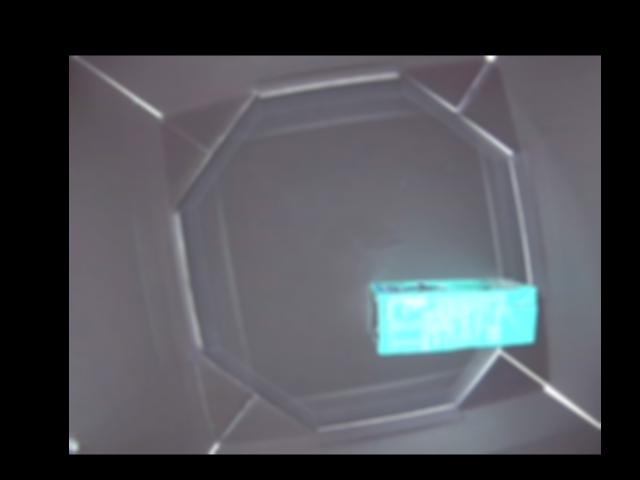Bottle: (367, 268, 539, 355)
